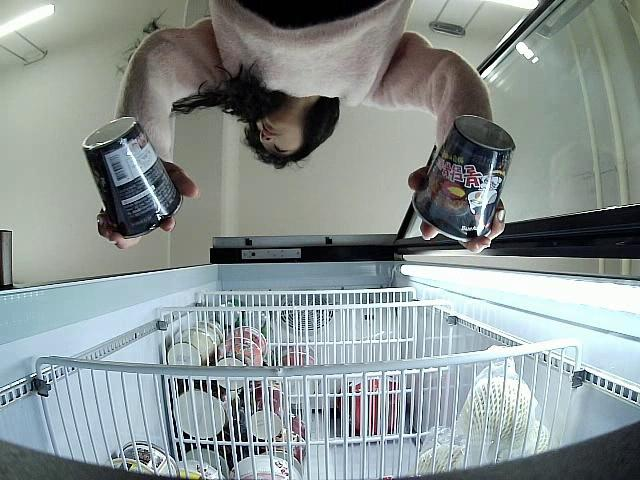00_hand: (97, 161, 198, 249), (409, 167, 505, 253)
08_buldak_S: (414, 115, 516, 241), (83, 117, 182, 240)
